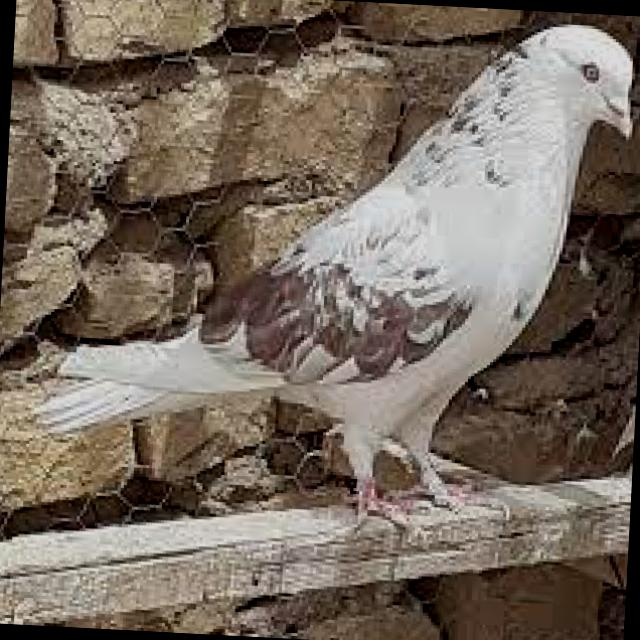bird: (32, 0, 640, 541)
